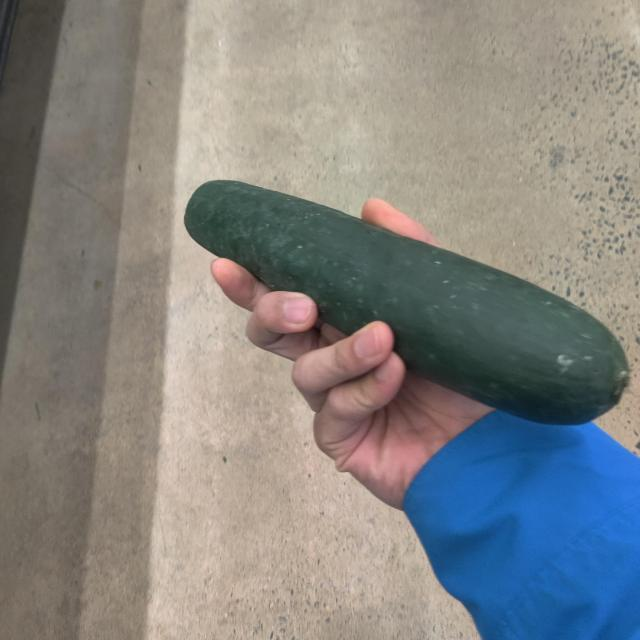Cucumber: (186, 177, 634, 427)
